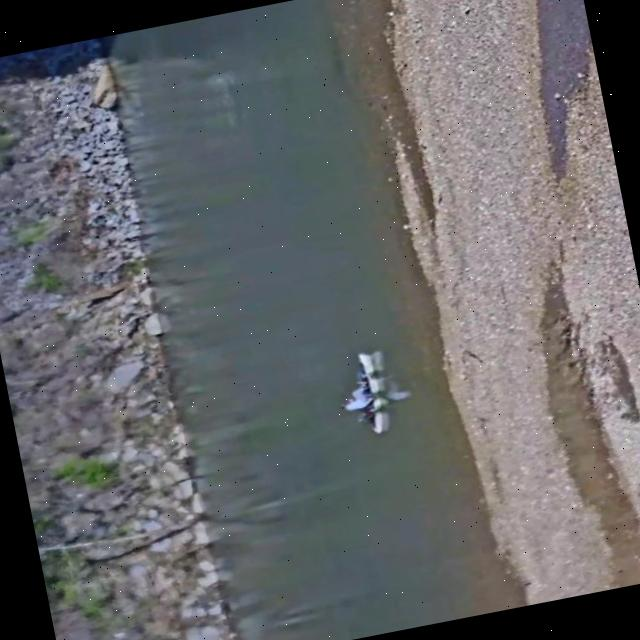kayak: (358, 352, 387, 432)
